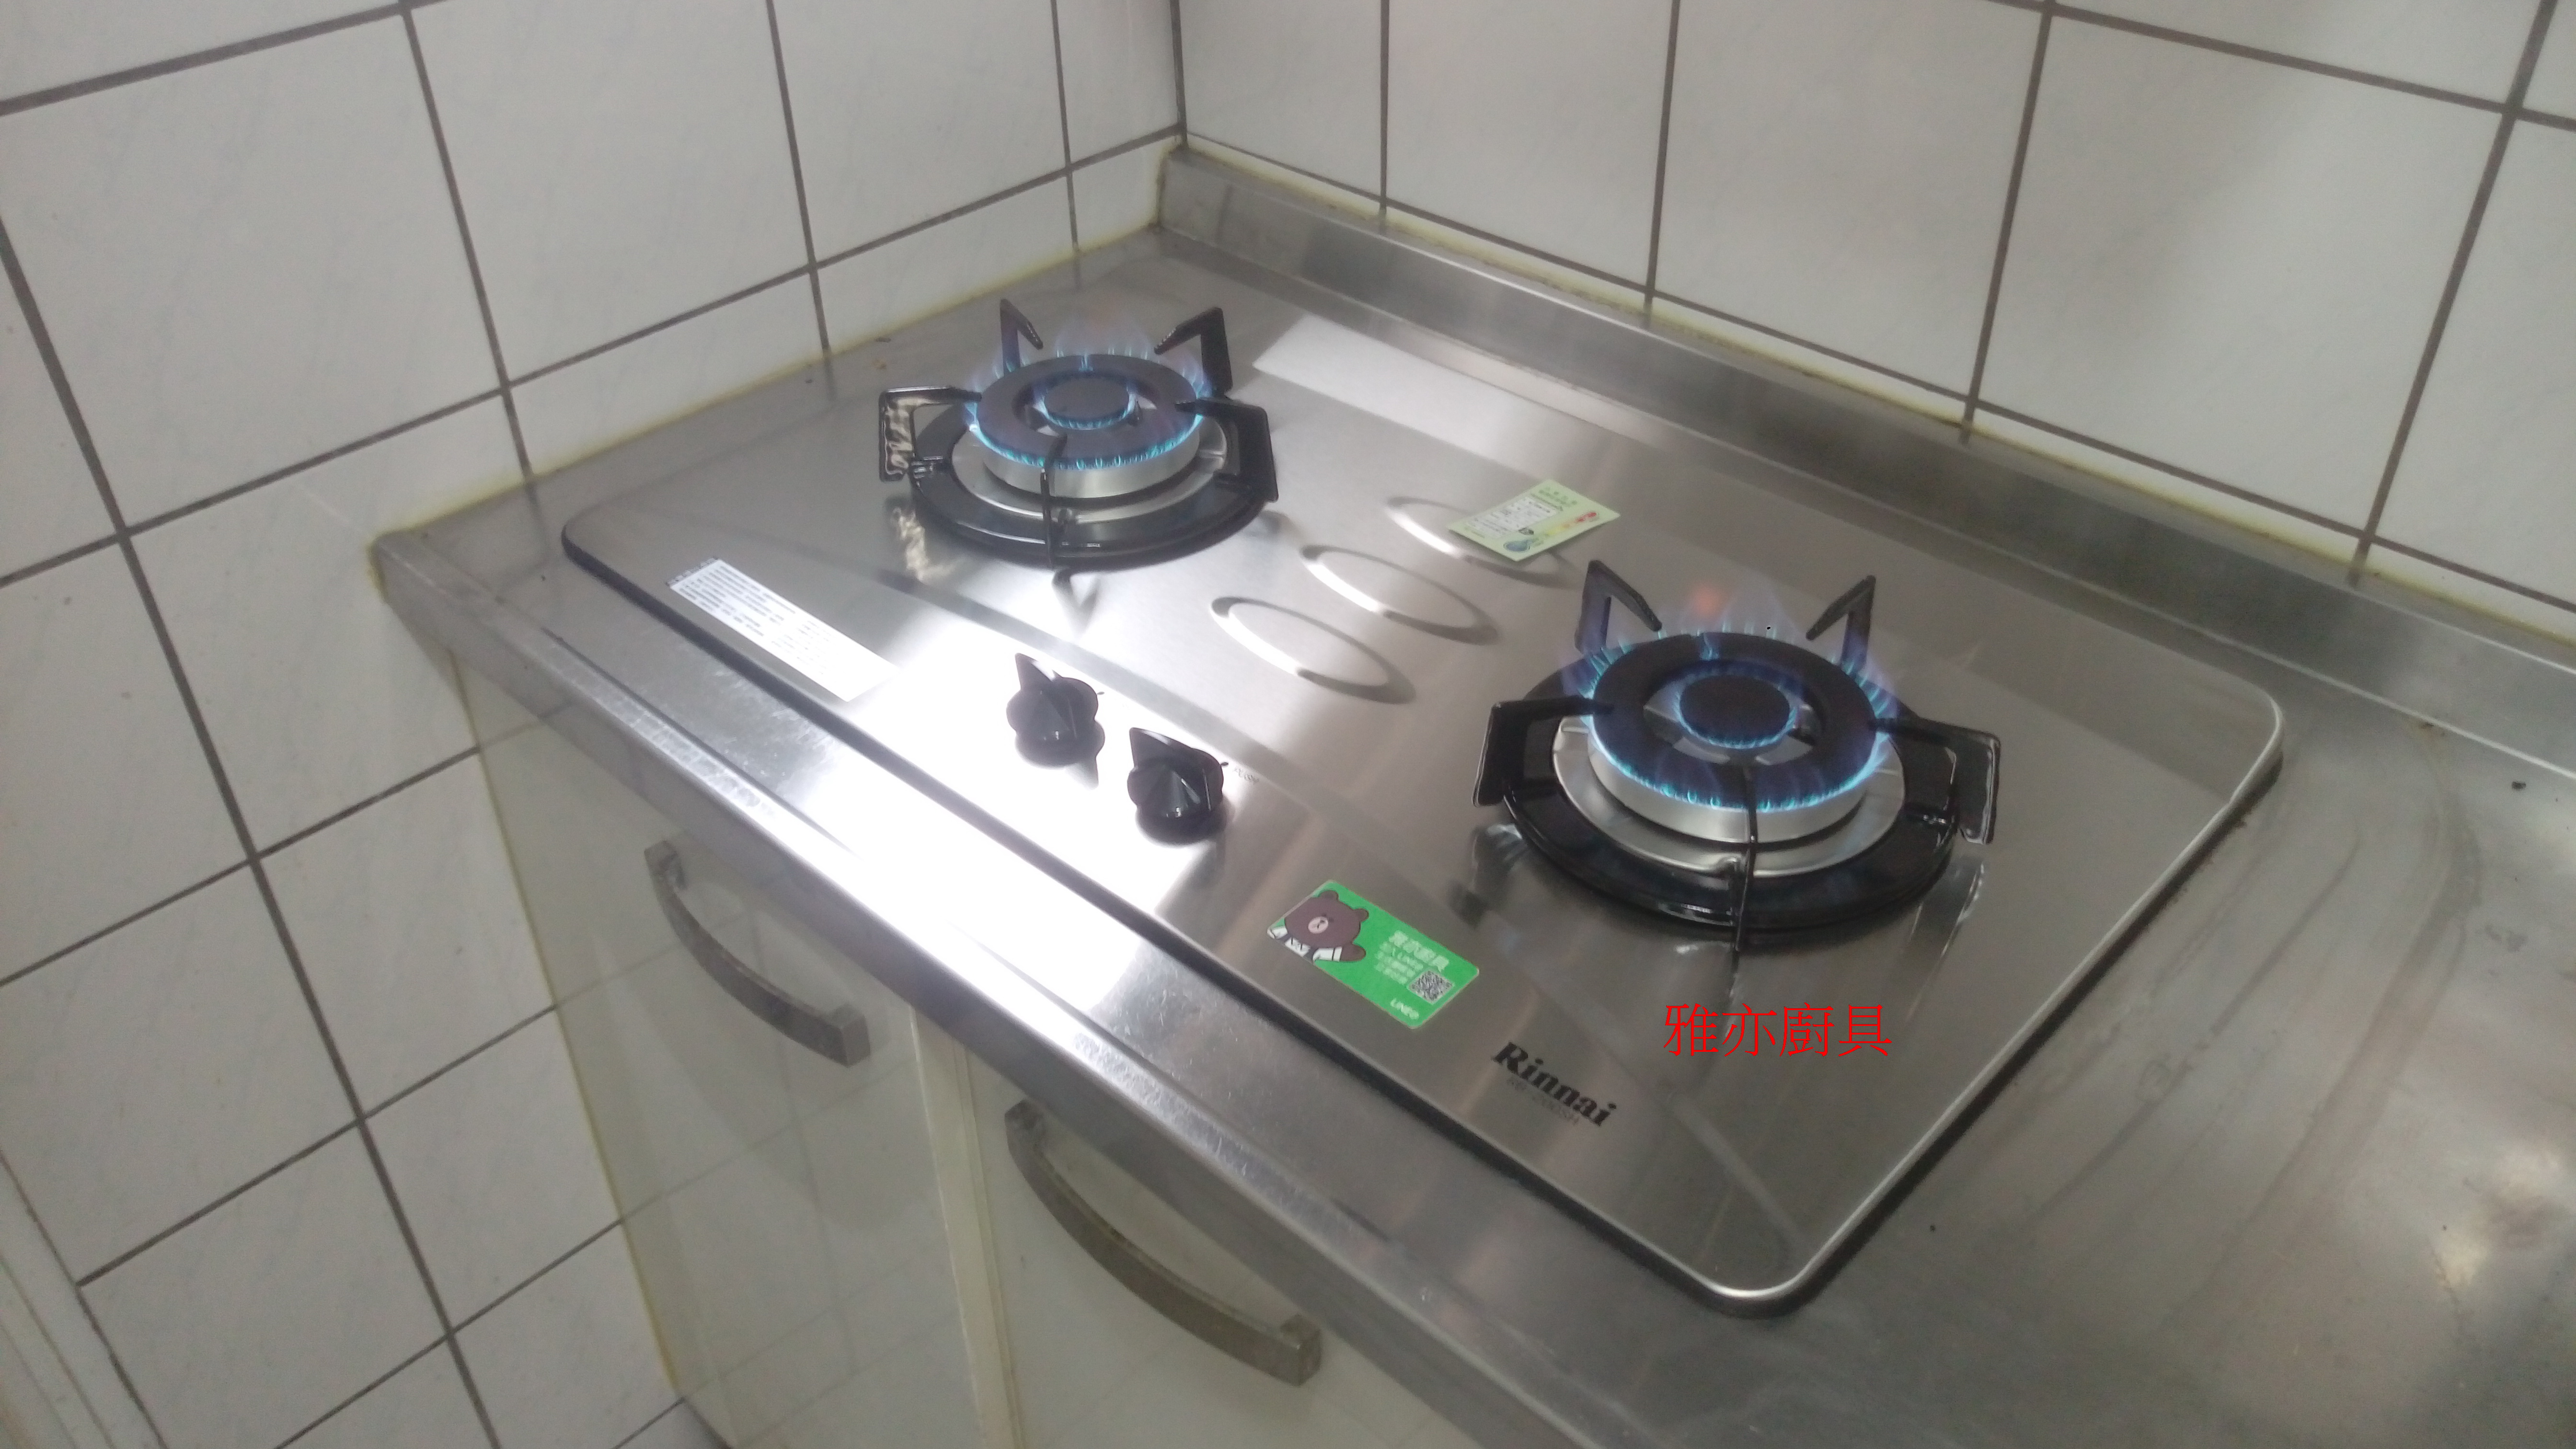gasoven: (508, 262, 2316, 1327)
